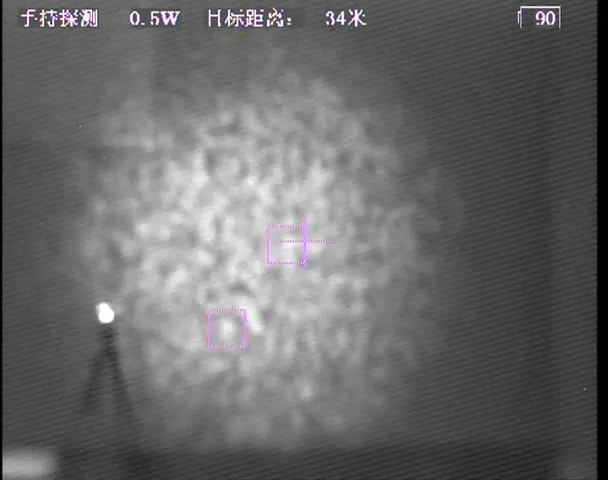my: (95, 301, 116, 323)
